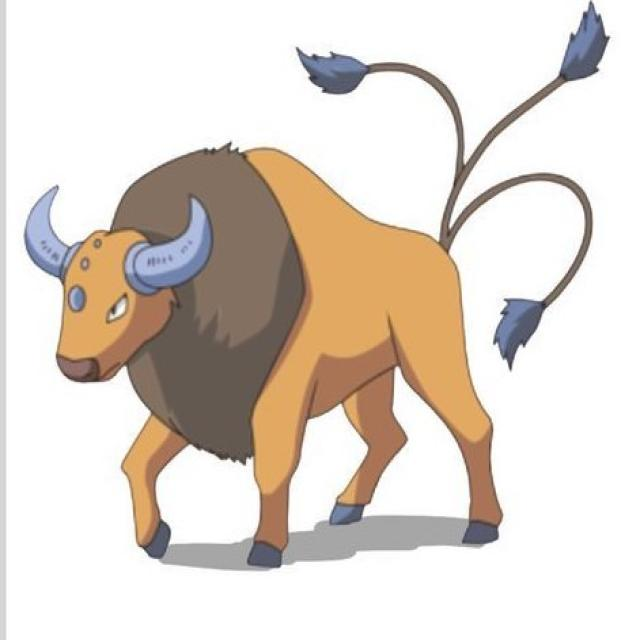Tauros: (0, 135, 502, 588)
